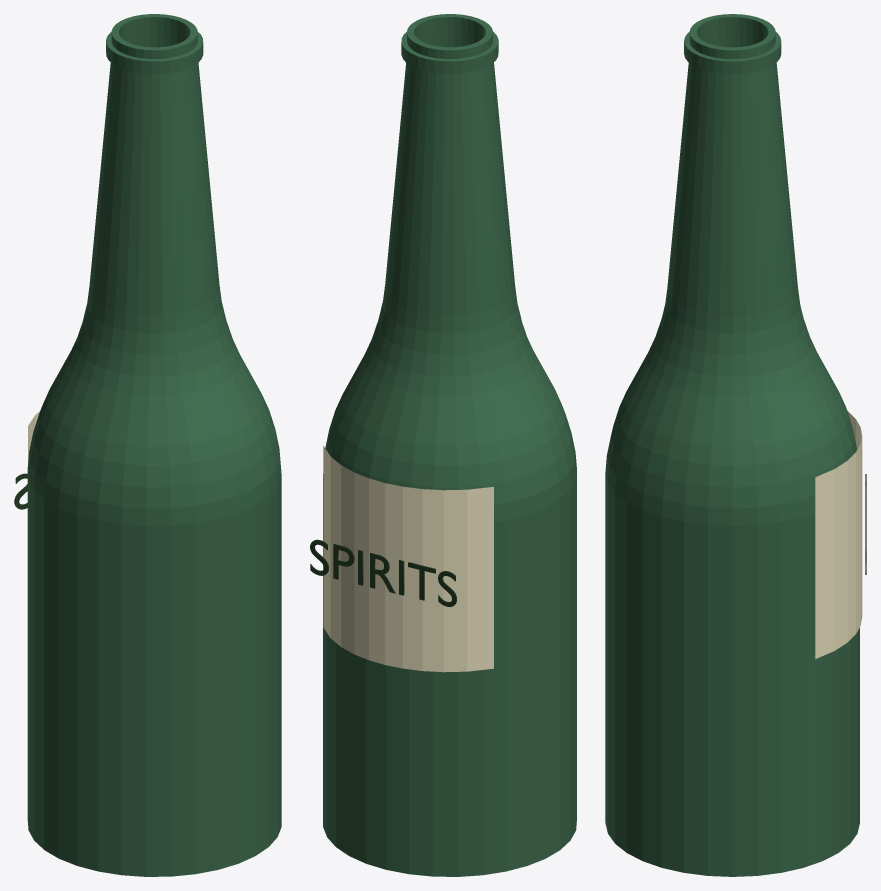
The model's file is SpiritBottle.dae.
The picture shows the model from 3 angles, left to right: view 1: azimuth 30°, elevation 25°; view 2: azimuth 150°, elevation 25°; view 3: azimuth 270°, elevation 25°; orthographic projection.
Visible parts, largest first — view 1: Cylinder_002_001.001; view 2: Cylinder_002_001.001, spiritbottle_label_panel, spiritbottle_label_text; view 3: Cylinder_002_001.001, spiritbottle_label_panel.
Boxes of the visible parts, bbox=[...] form: Cylinder_002_001.001: bbox=[27, 14, 281, 876]; Cylinder_002_001.001: bbox=[323, 14, 576, 876]; spiritbottle_label_panel: bbox=[323, 446, 493, 672]; spiritbottle_label_text: bbox=[310, 539, 456, 606]; Cylinder_002_001.001: bbox=[605, 14, 859, 876]; spiritbottle_label_panel: bbox=[815, 411, 862, 658].
Size of the model in its own units: 0.0795 by 0.0815 by 0.2725.
